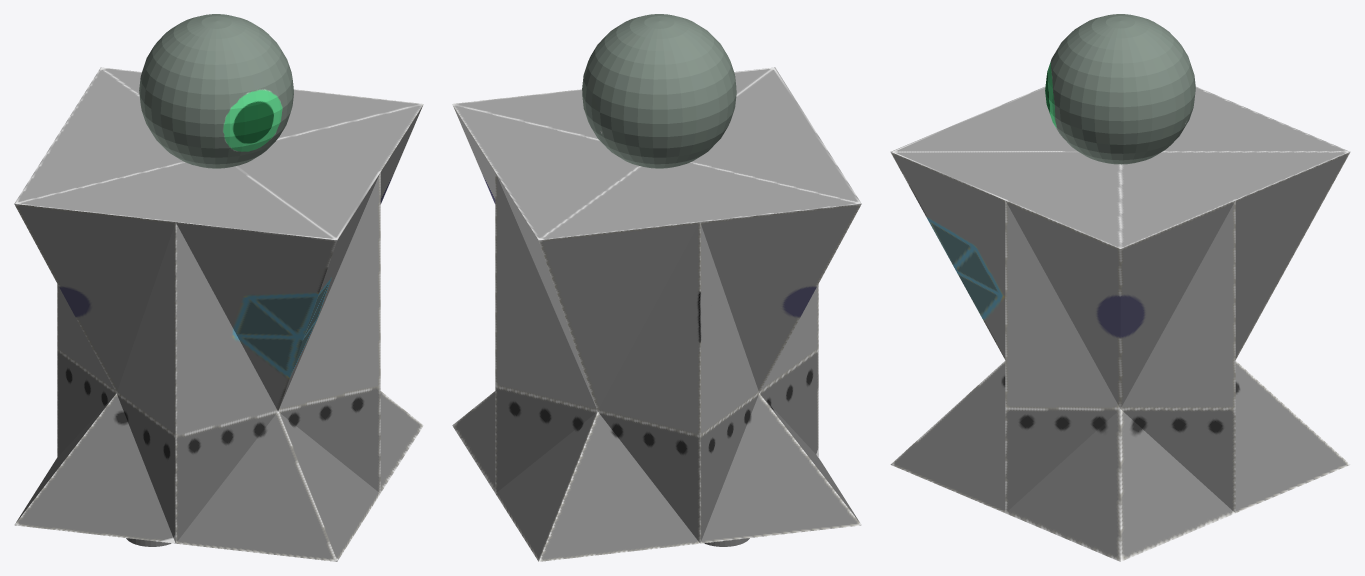
File: boss.obj
The picture shows the model from 3 angles, left to right: view 1: azimuth 30°, elevation 25°; view 2: azimuth 150°, elevation 25°; view 3: azimuth 270°, elevation 25°; orthographic projection. The views are drawn at different scales.
Visible parts, largest first — view 1: 胴体; view 2: 胴体; view 3: 胴体.
Part boxes in pixels (x1,y1,x2,y2): 胴体: (14, 14, 423, 561); 胴体: (452, 14, 861, 561); 胴体: (890, 14, 1350, 561).
Bounding box in the file's own units: 3.05 × 3.55 × 3.05.
Materials: 1 (1 with a texture image).
